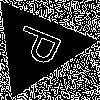P: (12, 22, 73, 72)
